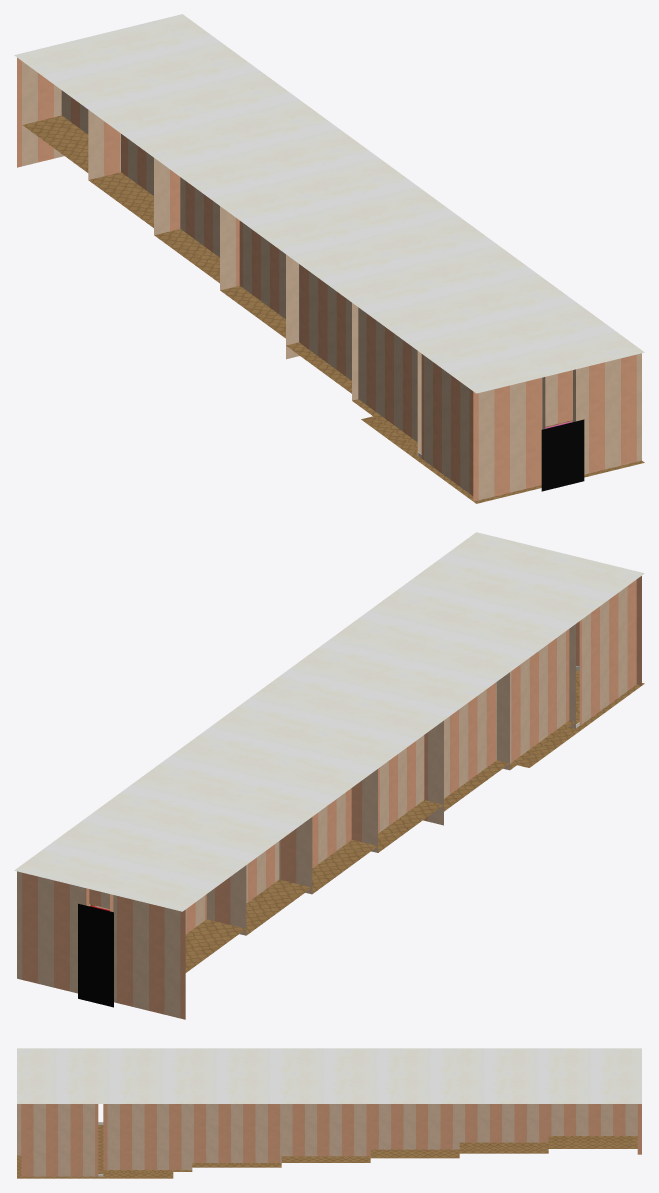
Rendered from rdwe_tilted_hall.glb.
3 views of the same model, one above another, from view 1: azimuth 30°, elevation 25°; view 2: azimuth 150°, elevation 25°; view 3: azimuth 270°, elevation 25° (orthographic). The views are drawn at different scales.
Visible parts, largest first — view 1: Ceil_Plaster, Wall_Peach_Stripe, Floor_Tan, Void; view 2: Ceil_Plaster, Wall_Peach_Stripe, Floor_Tan, Void; view 3: Ceil_Plaster, Wall_Peach_Stripe, Floor_Tan.
Boxes of the visible parts, left/top/right/bottom form: Ceil_Plaster: left=14, top=14, right=644, bottom=393; Wall_Peach_Stripe: left=17, top=57, right=641, bottom=501; Floor_Tan: left=22, top=115, right=644, bottom=503; Void: left=541, top=419, right=584, bottom=491; Ceil_Plaster: left=14, top=532, right=644, bottom=911; Wall_Peach_Stripe: left=17, top=576, right=641, bottom=1019; Floor_Tan: left=185, top=670, right=644, bottom=972; Void: left=78, top=903, right=113, bottom=1007; Ceil_Plaster: left=17, top=1048, right=641, bottom=1103; Wall_Peach_Stripe: left=17, top=1104, right=641, bottom=1176; Floor_Tan: left=17, top=1125, right=637, bottom=1178.
Bounding box in the file's own units: 6.4 × 4.05 × 30.7.
17 materials, 12 textured.
